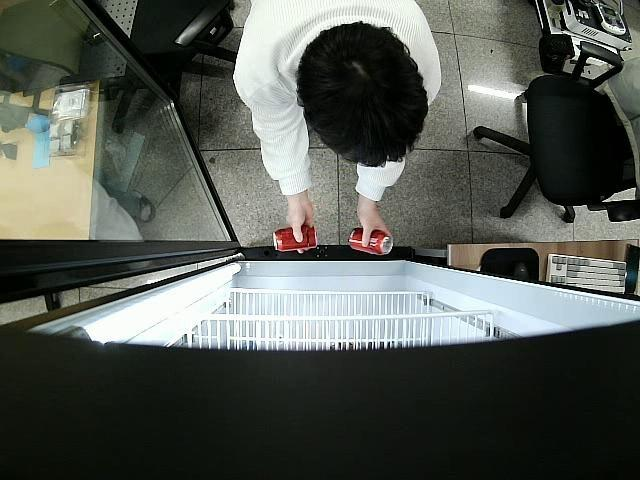11_cocaColaZero: (346, 227, 394, 255), (272, 225, 318, 253)
